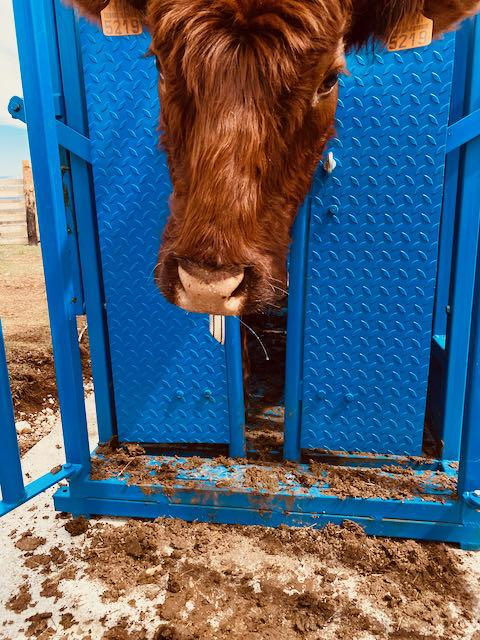muzzles: (148, 245, 290, 319)
